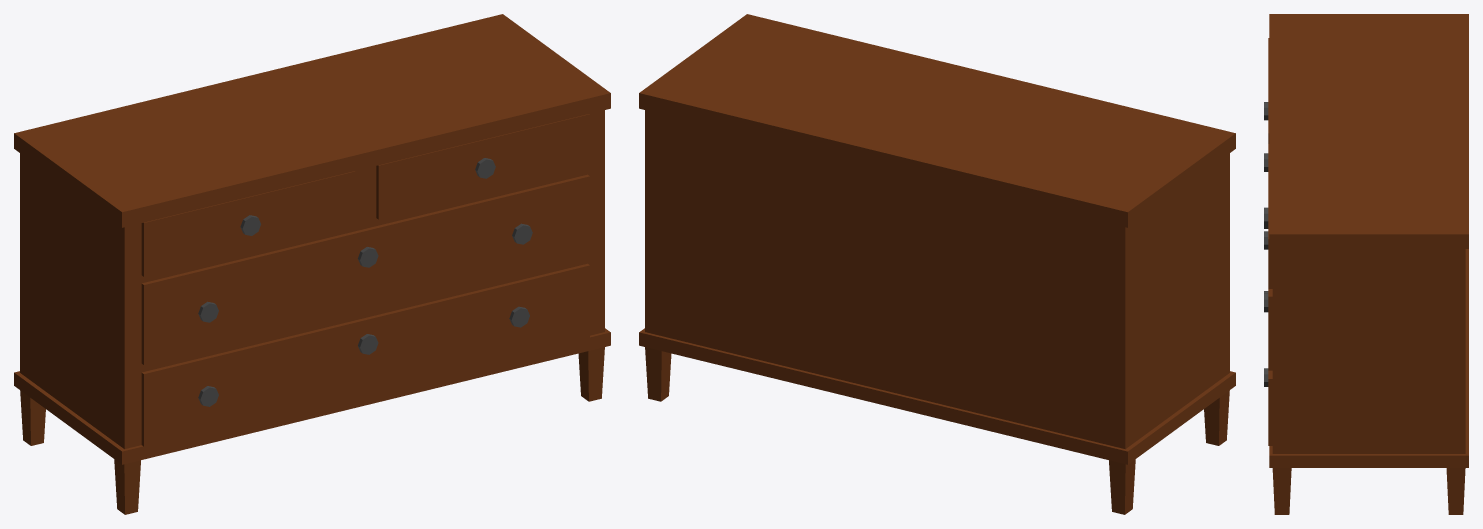
File: Commode.fbx
The picture shows the model from 3 angles, left to right: view 1: azimuth 30°, elevation 25°; view 2: azimuth 150°, elevation 25°; view 3: azimuth 270°, elevation 25°; orthographic projection. The views are drawn at different scales.
Parts seen in each view (by area): view 1: Commode, Poignees; view 2: Commode; view 3: Commode, Poignees.
Boxes of the visible parts, x1,y1,x2,y2 form: Commode: (14,14,610,514); Poignees: (198,158,532,406); Commode: (639,14,1235,514); Commode: (1268,14,1468,514); Poignees: (1264,102,1268,386).
Bounding box in the file's own units: 135 × 80.86 × 53.
